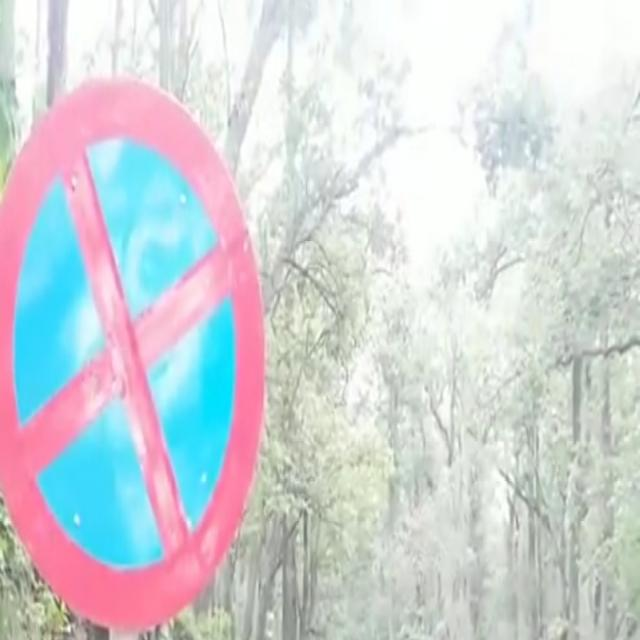NO_STOPPING_OR_STANDING: (0, 69, 269, 634)
